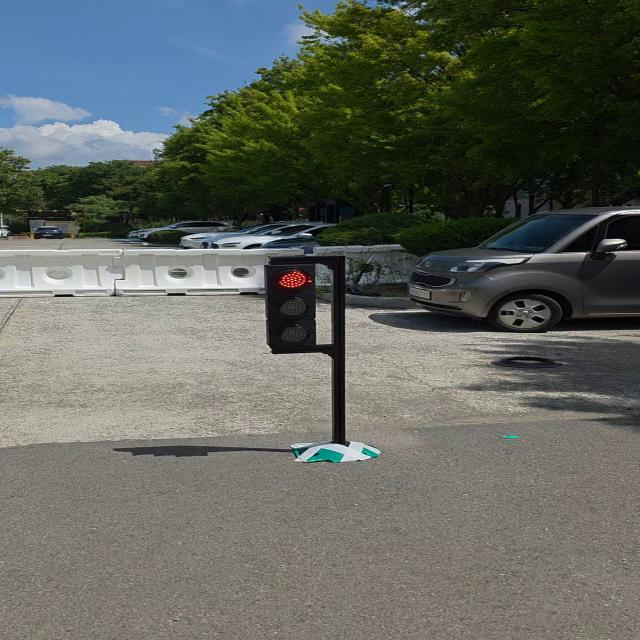red: (259, 261, 323, 357)
